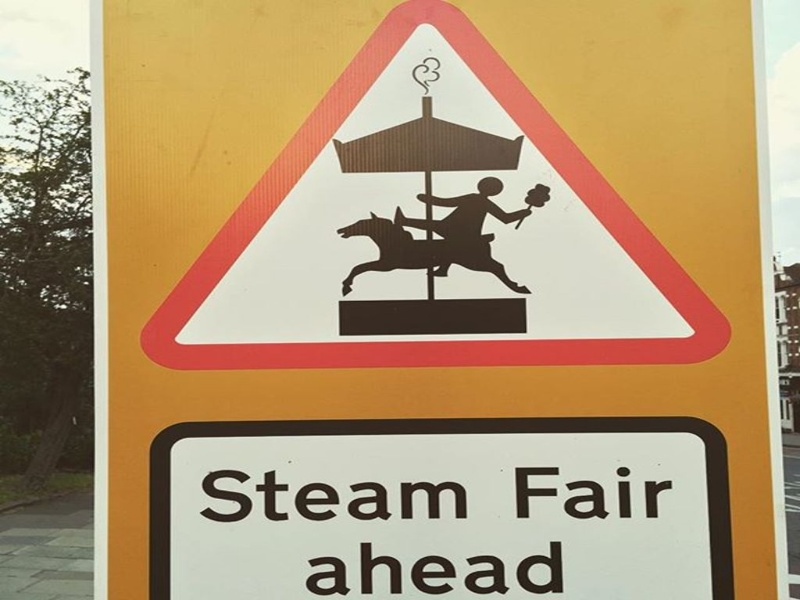animal_ahead: (140, 1, 741, 370)
